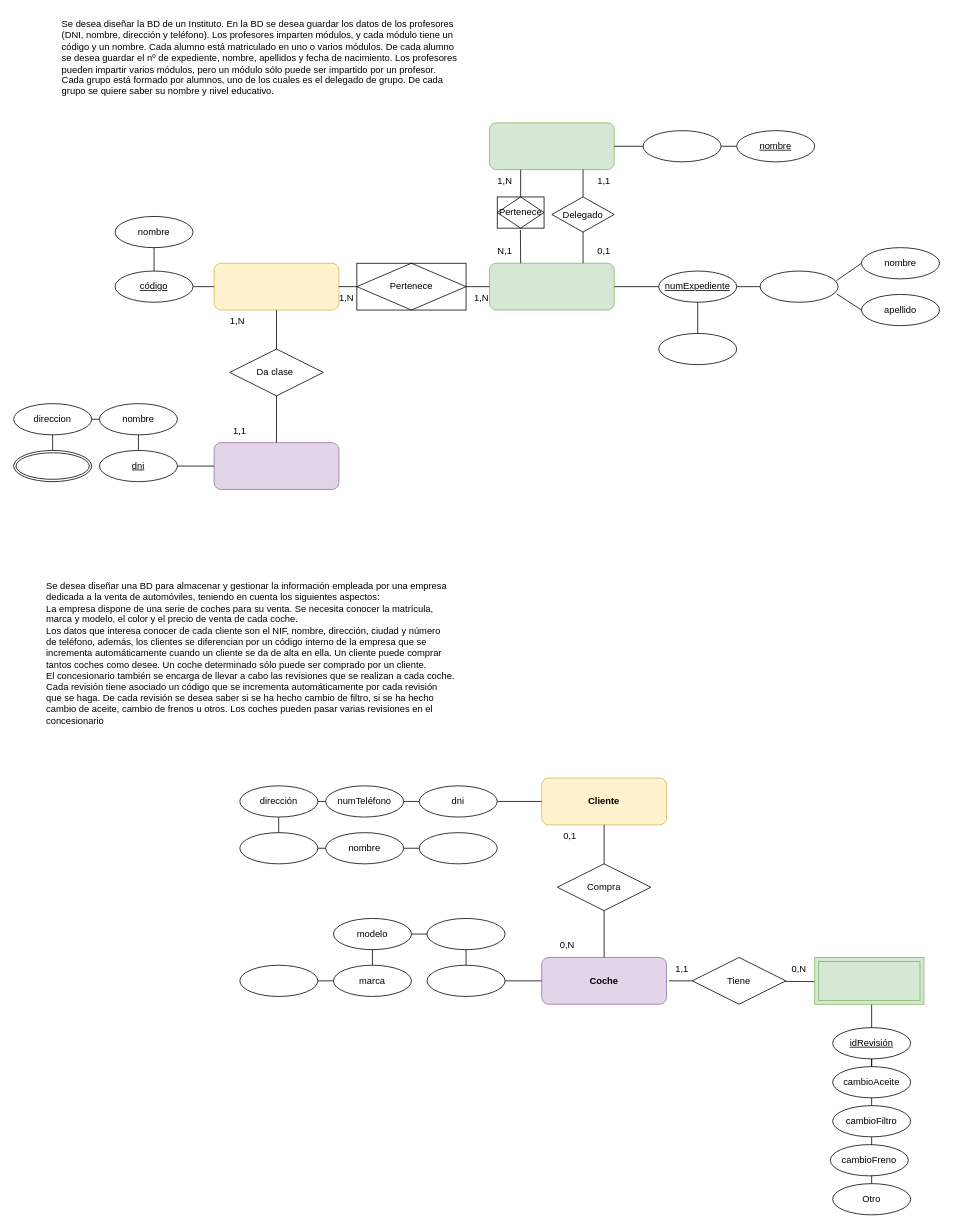
Image size: 953x1229. Some labels were removed from this diagram. Here are the shapes that lost their labels. From the top down, the box of each, then its label:
(489, 122, 614, 170): Grupo
(642, 130, 721, 162): nivelEducativo
(213, 262, 339, 310): Módulo
(489, 262, 614, 310): Alumno
(759, 270, 838, 302): nombreCompleto
(658, 333, 737, 365): fecha
(13, 450, 92, 482): telefono
(213, 442, 339, 489): Profesor
(239, 832, 318, 864): ciudad
(418, 832, 497, 864): idCliente
(426, 918, 505, 950): color
(239, 964, 318, 996): precio
(426, 964, 505, 996): matricula
(814, 957, 924, 1004): Revisión
